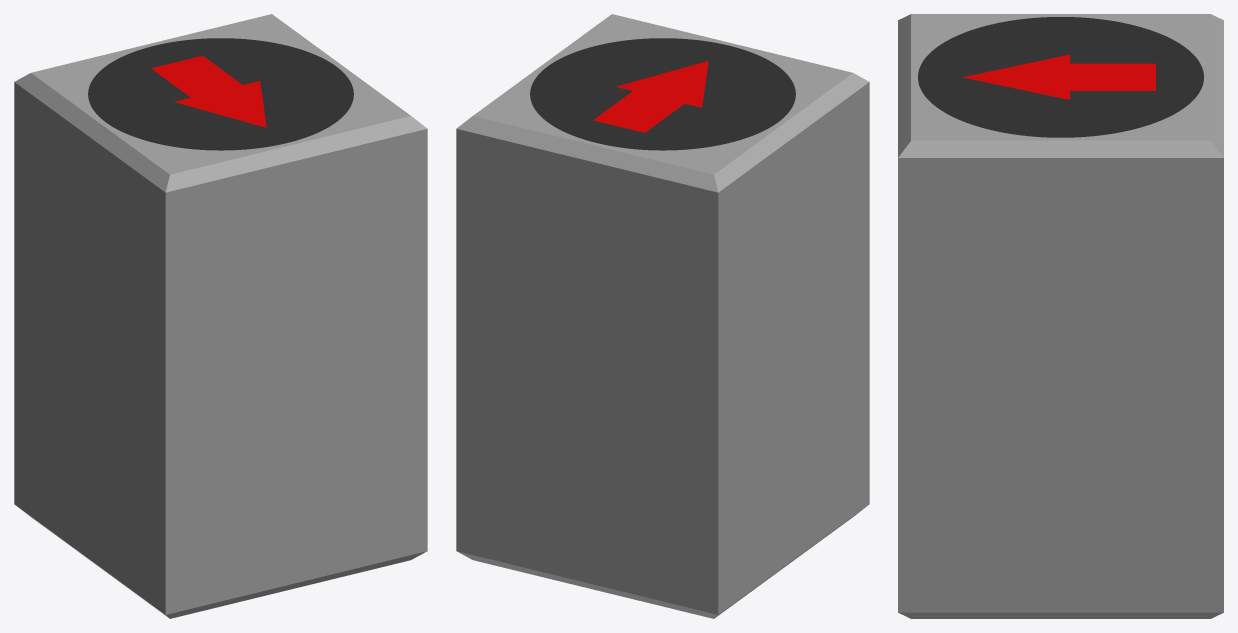
Rendered from Arrow Piece.fbx.
3 views of the same model, side by side, from view 1: azimuth 30°, elevation 25°; view 2: azimuth 150°, elevation 25°; view 3: azimuth 270°, elevation 25° (orthographic). The views are drawn at different scales.
Parts seen in each view (by area): view 1: Arrow_Piece; view 2: Arrow_Piece; view 3: Arrow_Piece.
Part boxes in pixels (left/top/right/bottom): Arrow_Piece: left=14, top=14, right=427, bottom=618; Arrow_Piece: left=456, top=14, right=869, bottom=618; Arrow_Piece: left=898, top=14, right=1223, bottom=618.
Bounding box in the file's own units: 250 × 405 × 250.
